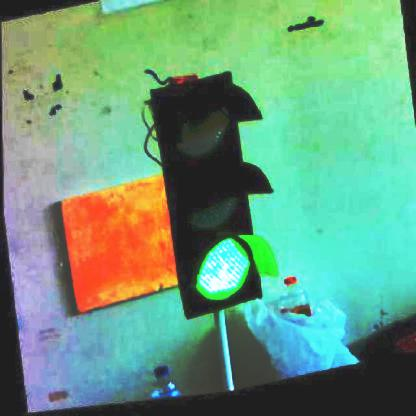Traffic Light -Green-: (154, 70, 284, 326)
